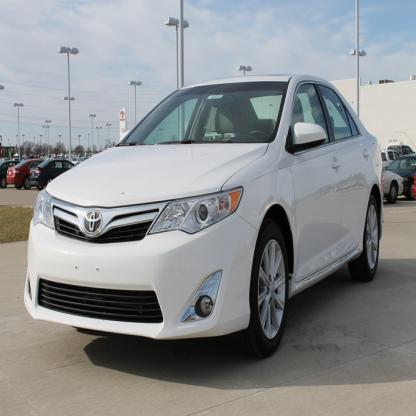Vehicle: (22, 75, 383, 360)
